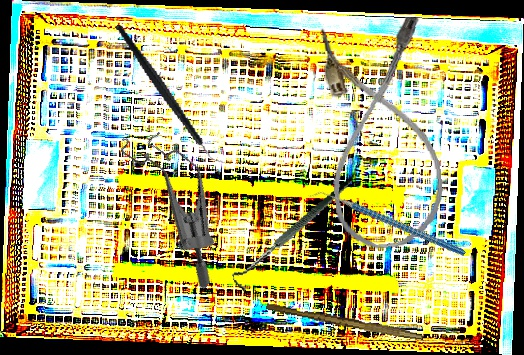Cannula: (316, 15, 449, 253)
Chopper: (307, 148, 467, 300), (115, 7, 226, 182)
Hook Surgical: (216, 177, 372, 294)
Scalpel Handle: (265, 302, 425, 341)
Speculum: (81, 116, 264, 291)
